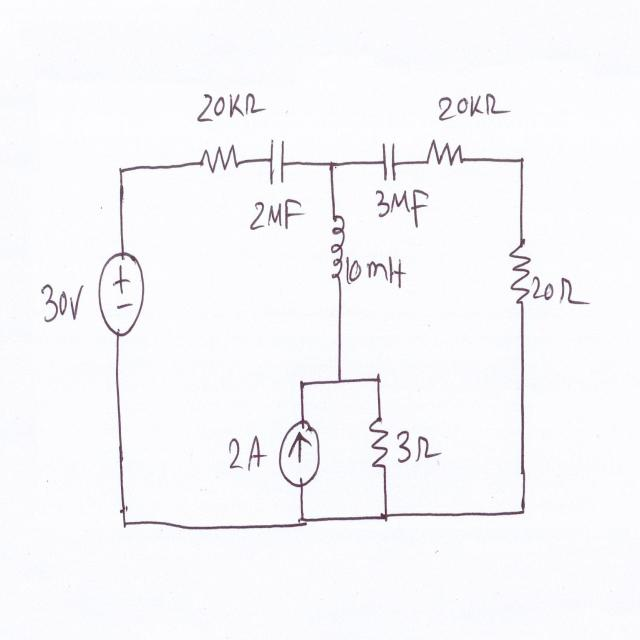capacitor: (374, 130, 402, 188), (264, 132, 290, 192)
current_source: (273, 410, 323, 494)
inductor: (328, 205, 348, 289)
resistor: (506, 225, 534, 315), (420, 125, 470, 173), (195, 138, 241, 180), (365, 408, 392, 475)
voltage_source: (95, 241, 145, 348)
